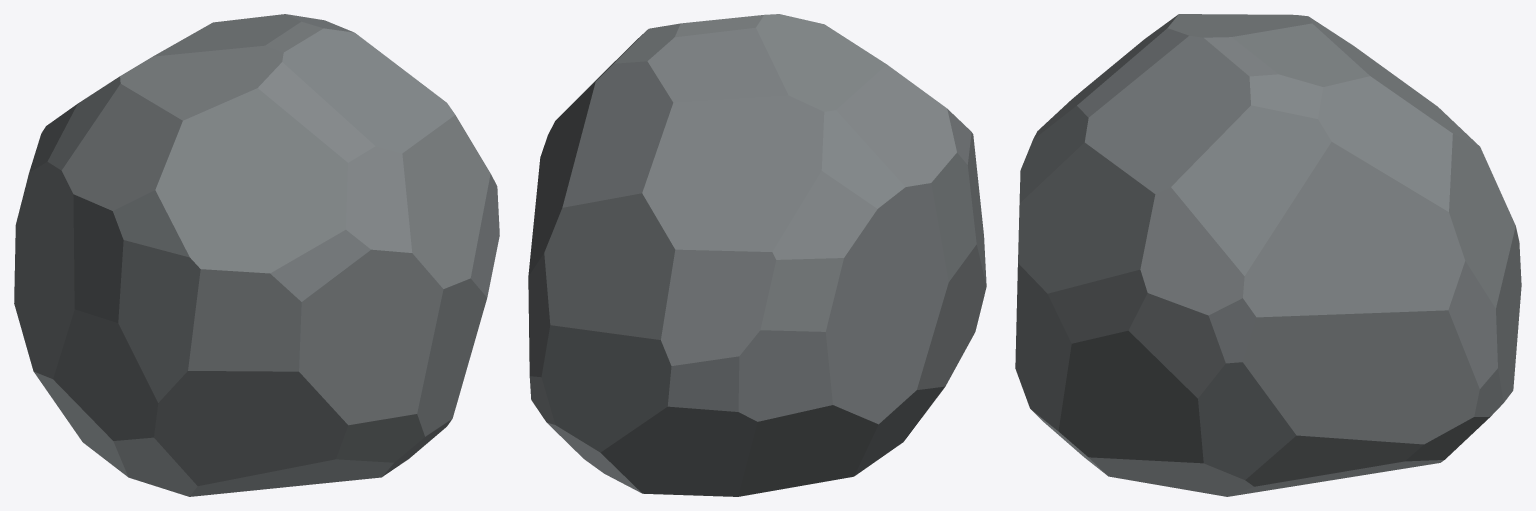
Rendered from NHP_Rock_Boulder_A1_01.fbx.
3 views of the same model, side by side, from view 1: azimuth 30°, elevation 25°; view 2: azimuth 150°, elevation 25°; view 3: azimuth 270°, elevation 25° (orthographic). The views are drawn at different scales.
Parts seen in each view (by area): view 1: NHP_Rock_Boulder_A1_01; view 2: NHP_Rock_Boulder_A1_01; view 3: NHP_Rock_Boulder_A1_01.
Part boxes in pixels (left/top/right/bottom): NHP_Rock_Boulder_A1_01: left=14, top=14, right=499, bottom=496; NHP_Rock_Boulder_A1_01: left=528, top=14, right=986, bottom=496; NHP_Rock_Boulder_A1_01: left=1015, top=14, right=1521, bottom=496.
Size of the model in its own units: 1.08 by 1 by 1.14.
